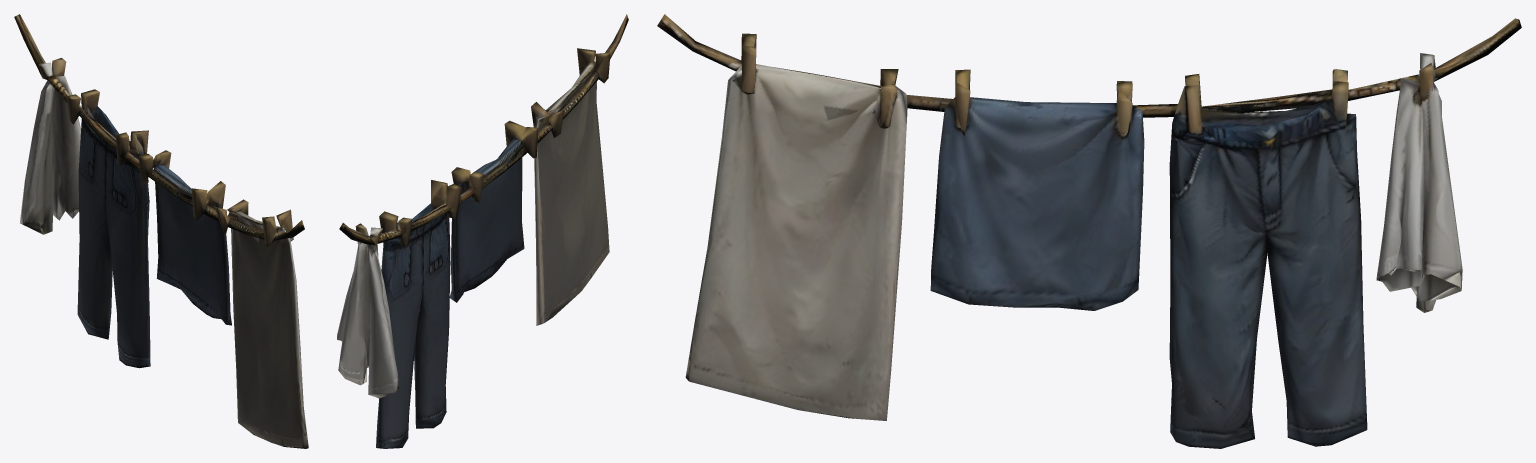
Rendered from tripo_convert_808296f8-8ffe-4744-acd7-eea79c76c5b4.fbx.
3 views of the same model, side by side, from view 1: azimuth 30°, elevation 25°; view 2: azimuth 150°, elevation 25°; view 3: azimuth 270°, elevation 25° (orthographic). The views are drawn at different scales.
Parts seen in each view (by area): view 1: tripo_node_808296f8; view 2: tripo_node_808296f8; view 3: tripo_node_808296f8.
Part boxes in pixels (x1,y1,x2,y2): tripo_node_808296f8: (14, 14, 308, 448); tripo_node_808296f8: (337, 14, 628, 448); tripo_node_808296f8: (657, 14, 1521, 448).
Bounding box in the file's own units: 0.1335 × 0.5362 × 1.
Materials: 1 (1 with a texture image).
